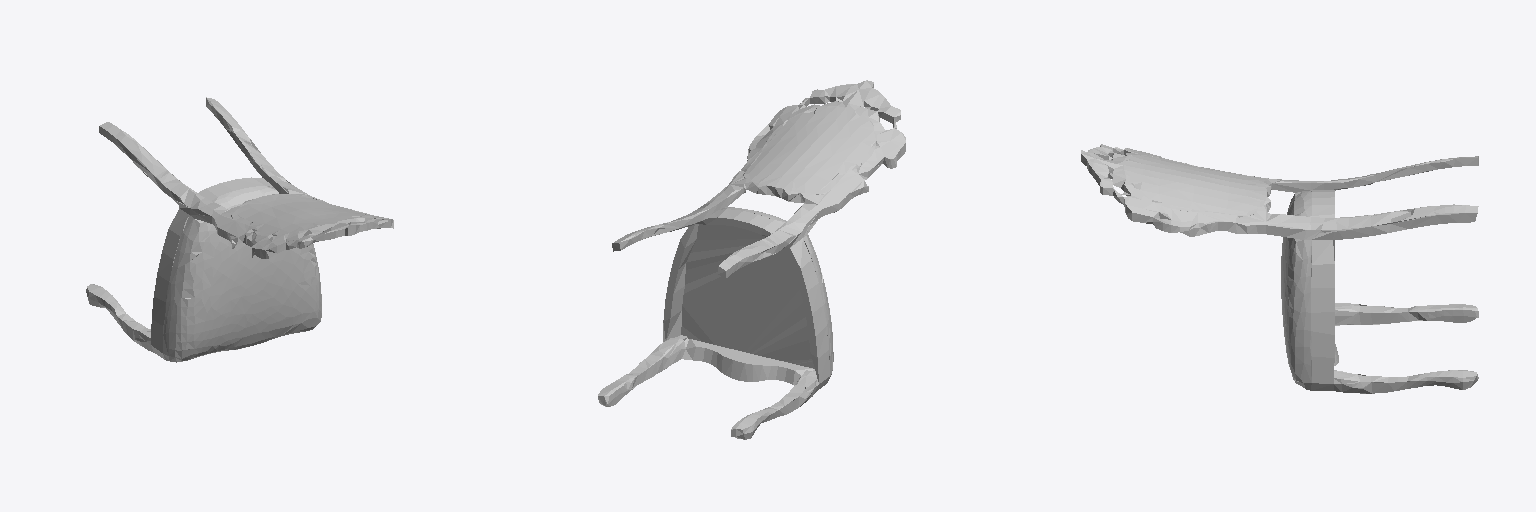
The model's file is chair_0187_Clustering_90pct.obj.
The picture shows the model from 3 angles: view 1: azimuth 30°, elevation 25°; view 2: azimuth 150°, elevation 25°; view 3: azimuth 270°, elevation 25°; orthographic projection.
Size of the model in its own units: 0.4595 by 0.5714 by 1.